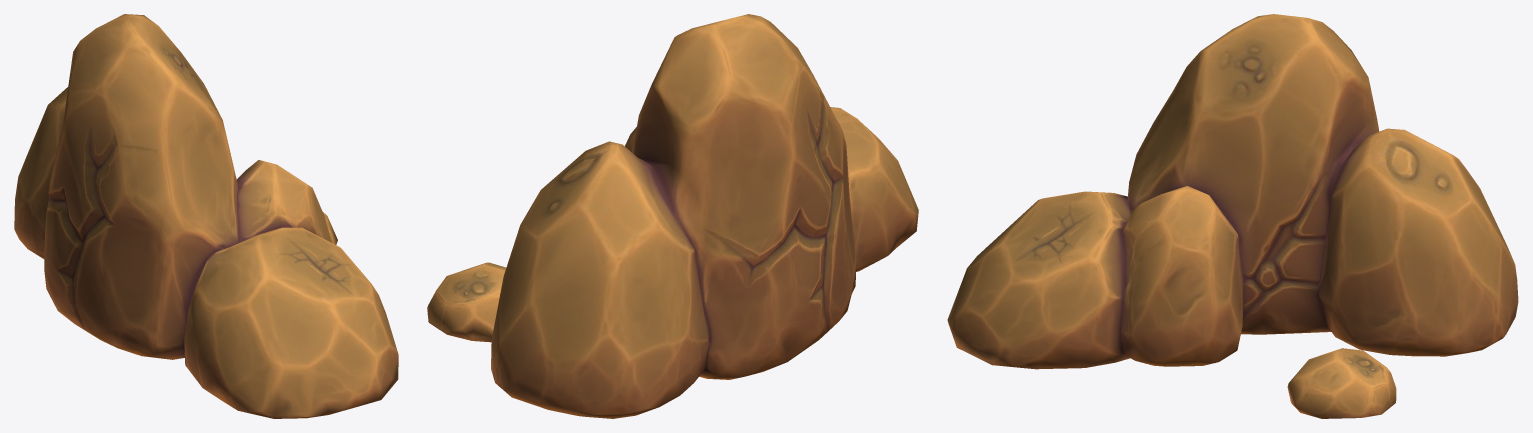
The model's file is desert_rocks.glb.
The picture shows the model from 3 angles, left to right: view 1: azimuth 30°, elevation 25°; view 2: azimuth 150°, elevation 25°; view 3: azimuth 270°, elevation 25°; orthographic projection. The views are drawn at different scales.
Visible parts, largest first — view 1: TCE_Rocks_v04_LP:Group11816; view 2: TCE_Rocks_v04_LP:Group11816; view 3: TCE_Rocks_v04_LP:Group11816.
Part boxes in pixels (left/top/right/bottom): TCE_Rocks_v04_LP:Group11816: left=14, top=14, right=398, bottom=418; TCE_Rocks_v04_LP:Group11816: left=427, top=14, right=918, bottom=418; TCE_Rocks_v04_LP:Group11816: left=947, top=14, right=1518, bottom=418.
Size of the model in its own units: 1.25 by 1.14 by 2.
1 material, 1 textured.
